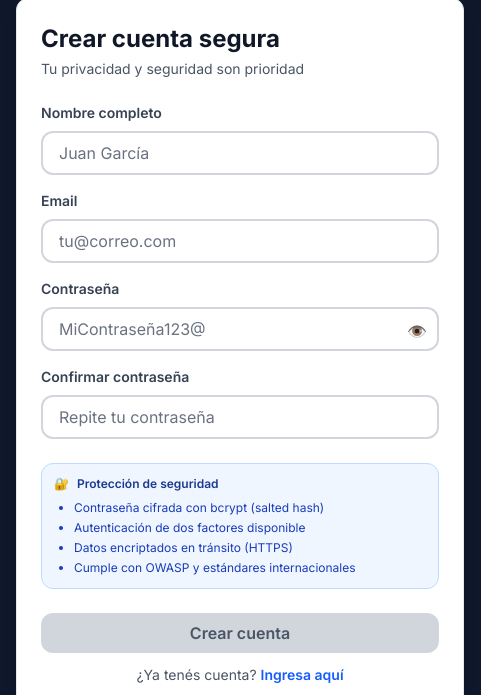
SecureSignupForm › Form submission › shows error on API failure
Type "John Doe" into the field with placeholder "Juan García" at (240, 153), box [41,131,439,175]
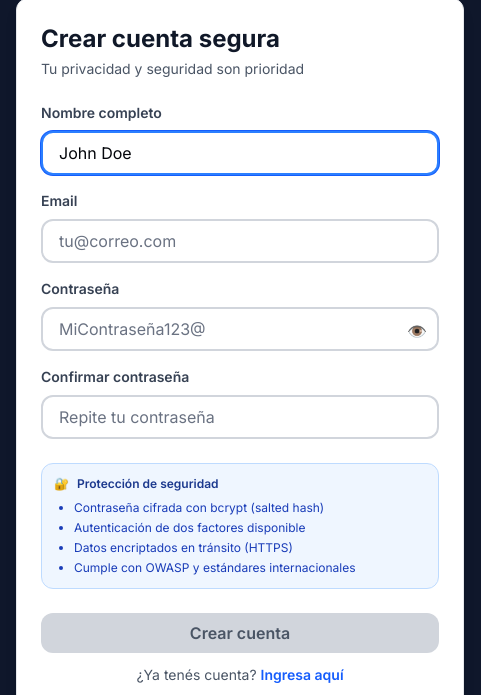
Type "john@example.com" into the field with placeholder "tu@correo.com" at (240, 241), box [41,219,439,263]
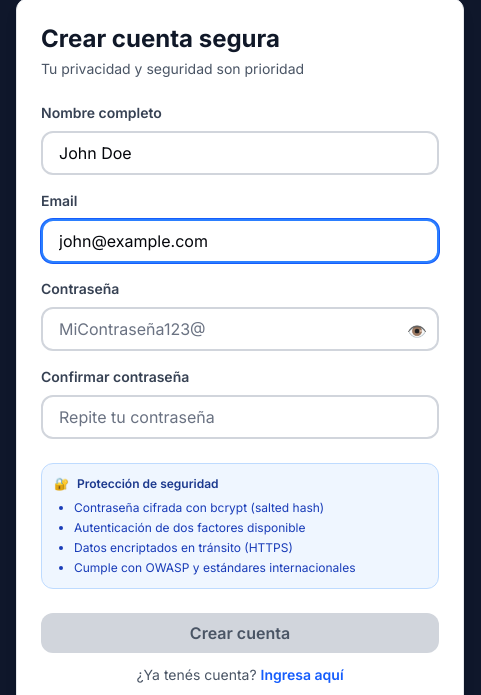
Type "SecurePass123@" into the password field with placeholder "MiContraseña123@" at (240, 329), box [41,307,439,351]
(page scrolled)
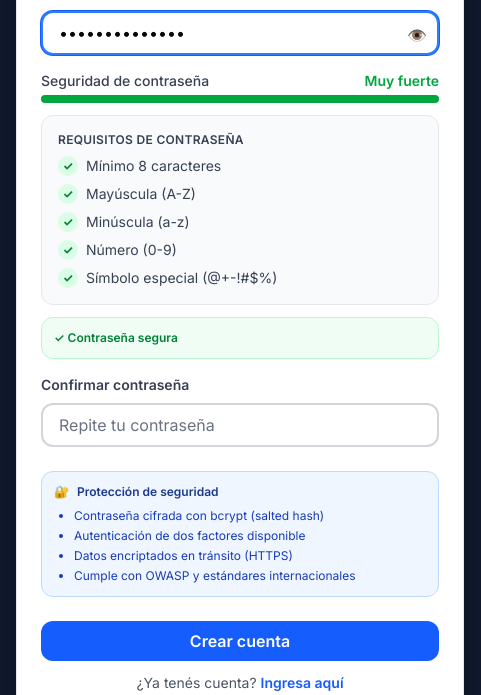
Type "SecurePass123@" into the password field with placeholder "Repite tu contraseña" at (240, 425), box [41,403,439,447]
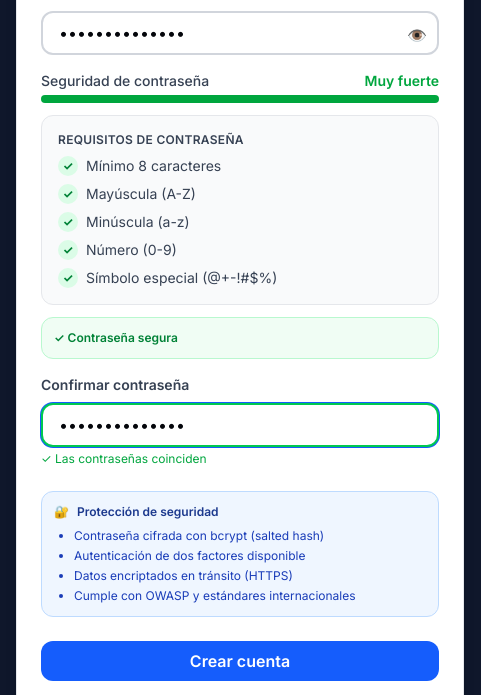
Click the button "Crear cuenta" at (240, 661), box [41,641,439,681]
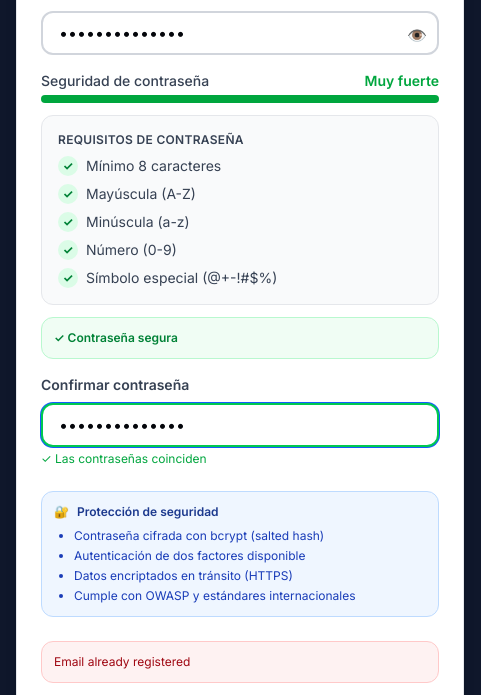
Expected: the text "Email already registered" is shown, [54,654,190,669]
